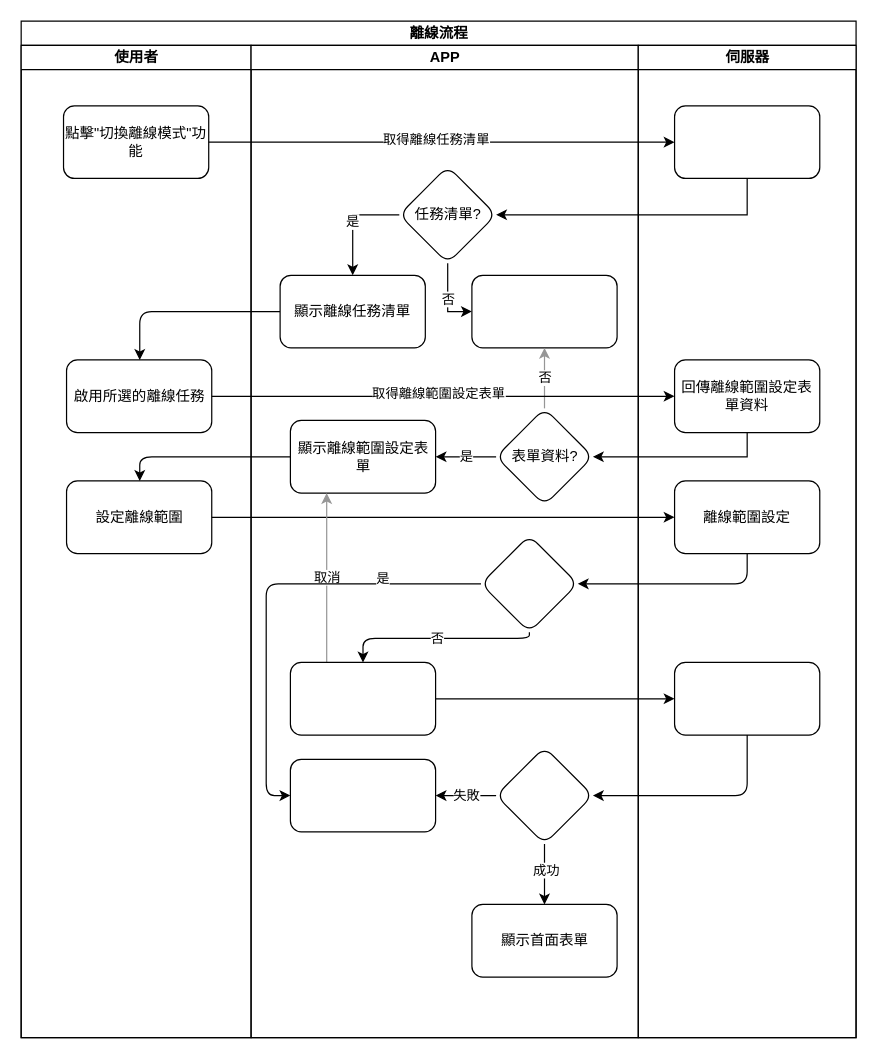
Some shapes in this 877 by 1059 pixel diagram are drawn without their labels. Each missing label, with the centre of its shape:
"下載結果" belongs at pixel 544 795.
"傳送離線資料" belongs at pixel 746 698.
"回傳離線任務清單" belongs at pixel 746 141.
"設定錯誤？" belongs at pixel 529 583.
"顯示下載進度" belongs at pixel 362 698.
"顯示錯誤" belongs at pixel 544 311.
"顯示錯誤訊息" belongs at pixel 362 795.
